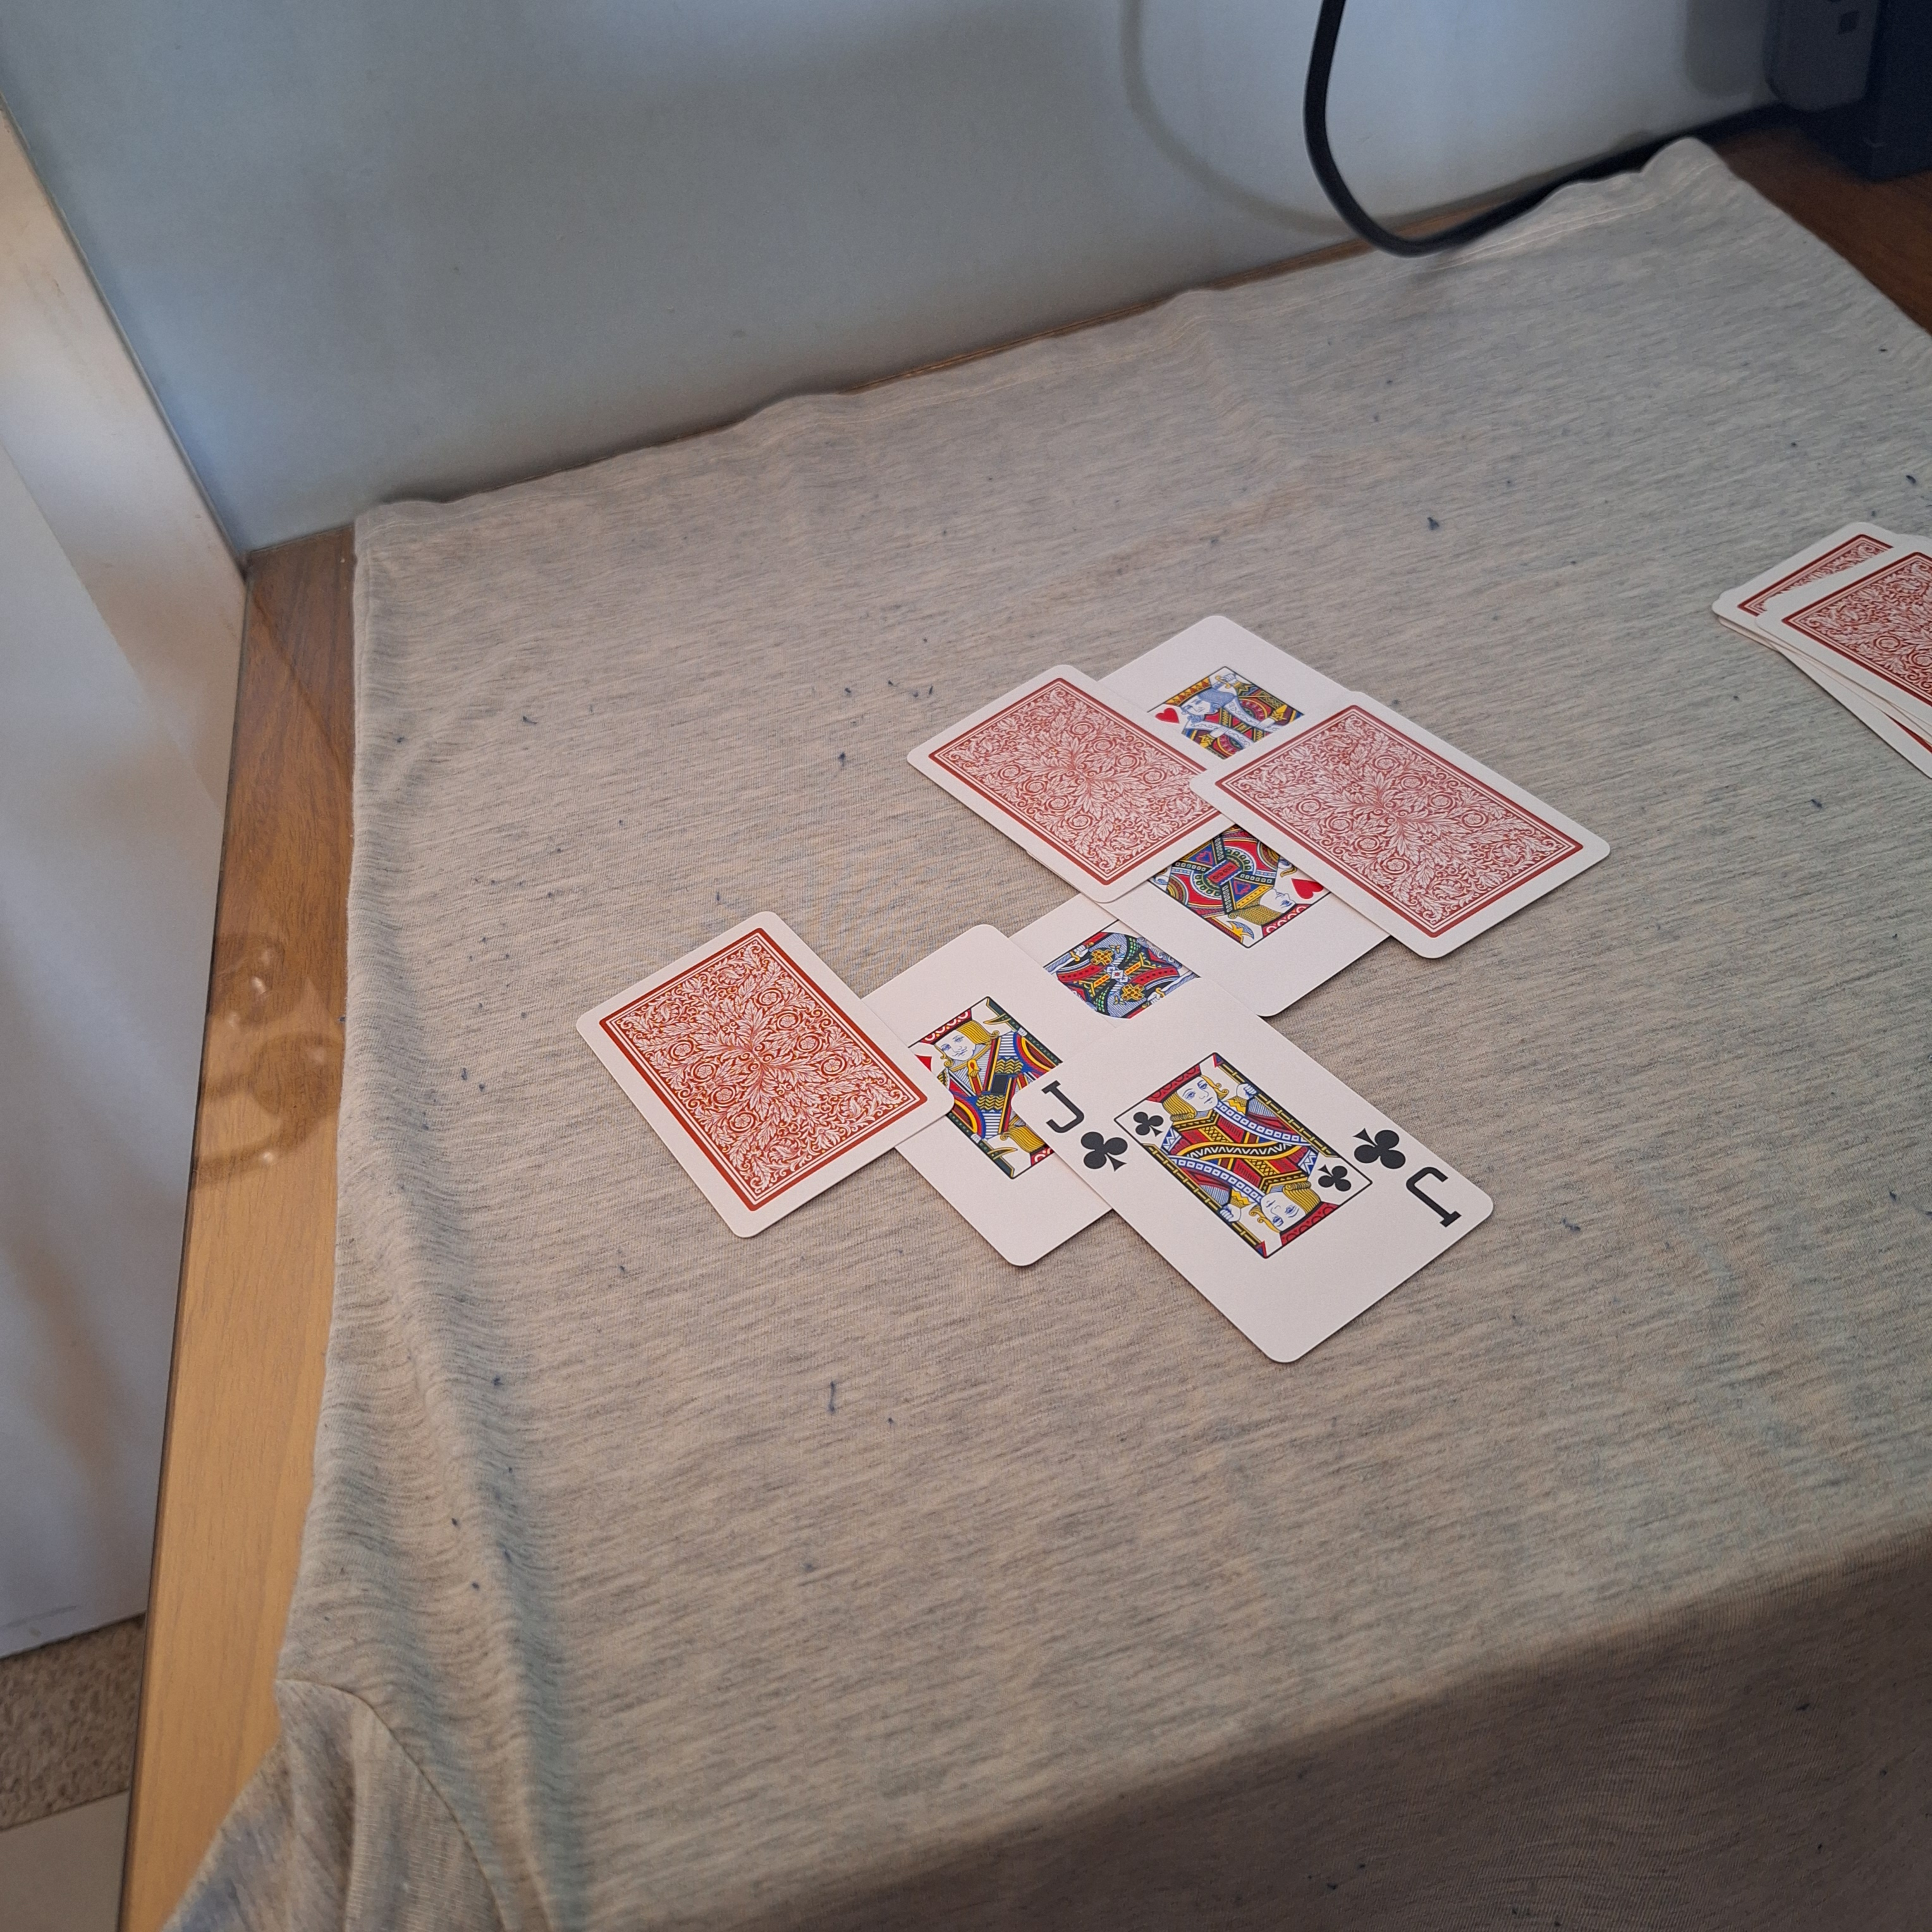JP: (1350, 1120, 1465, 1242), (1031, 1074, 1132, 1182)
